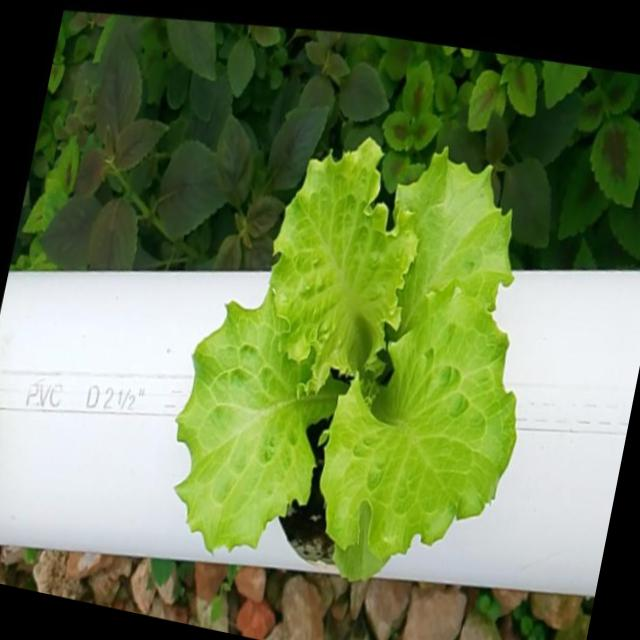Baby: (173, 130, 514, 576)
